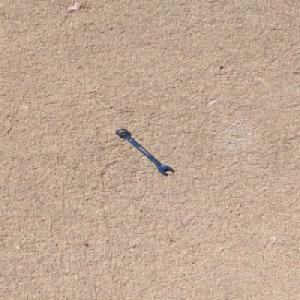Wrench: (114, 128, 173, 174)
